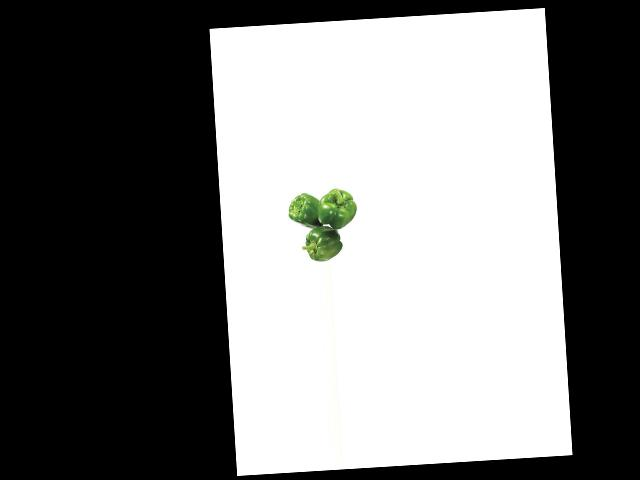bell_pepper: (314, 183, 361, 230)
